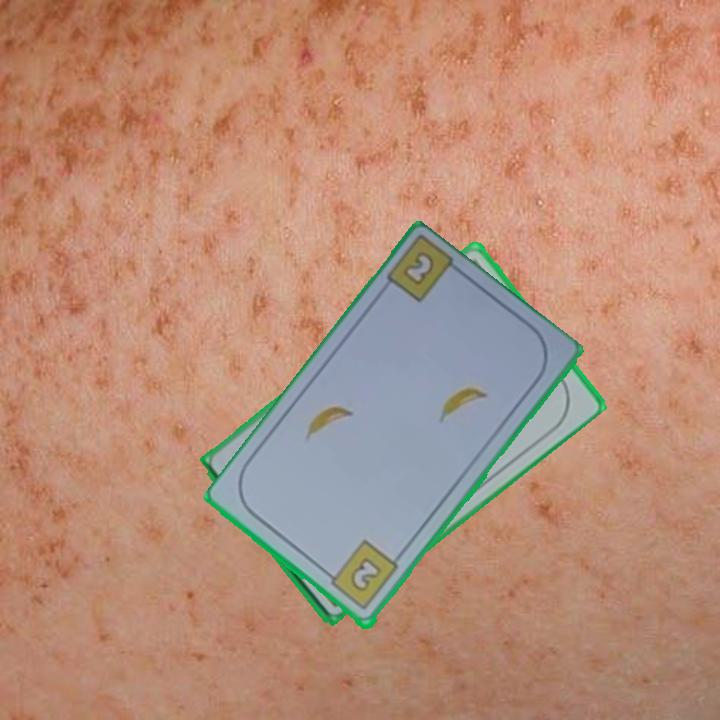2b: (321, 537, 401, 614), (402, 251, 434, 286)
